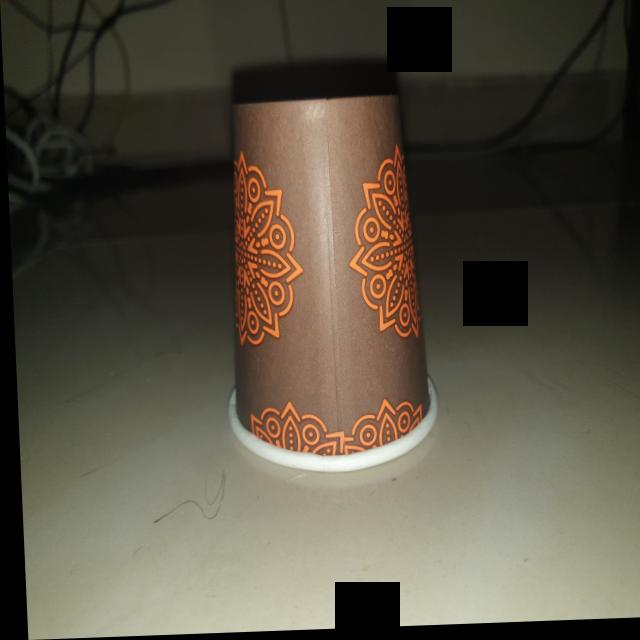cups: (215, 88, 438, 479)
